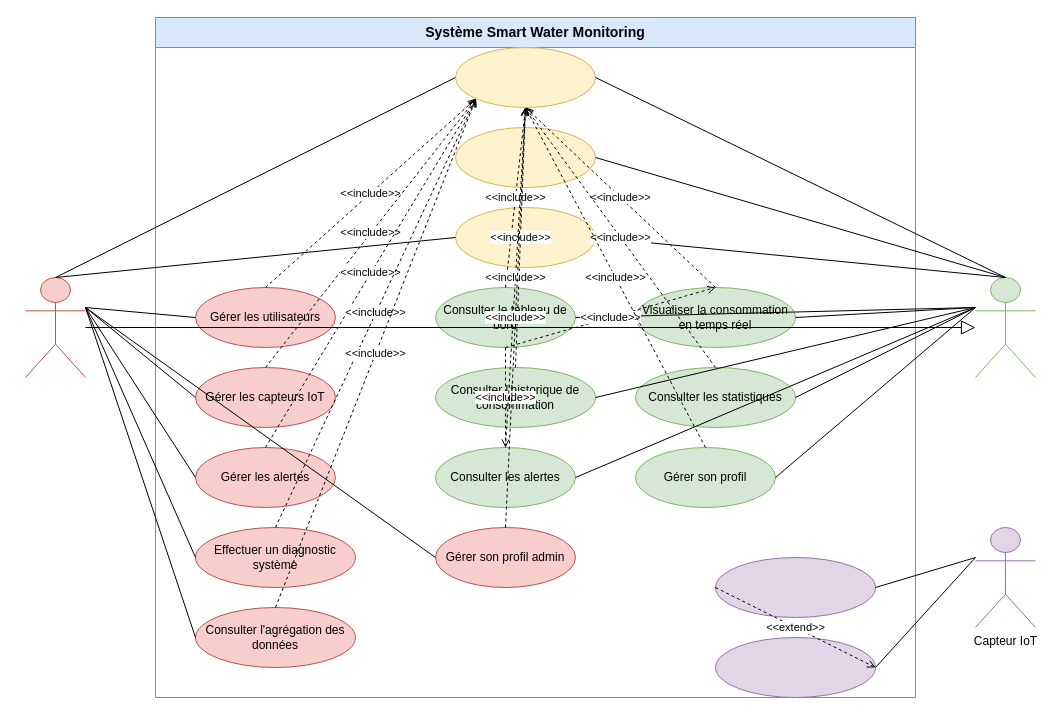
Some shapes in this 1054 by 715 pixel diagram are drawn without their labels. Each missing label, with the centre of its shape:
Administrateur: pixel 55 327
Citoyen: pixel 1005 327
Déclencher des alertes automatiques: pixel 795 667
Envoyer des données capteur: pixel 795 587
S'inscrire: pixel 525 157
Se connecter: pixel 525 77
Se déconnecter: pixel 525 237
